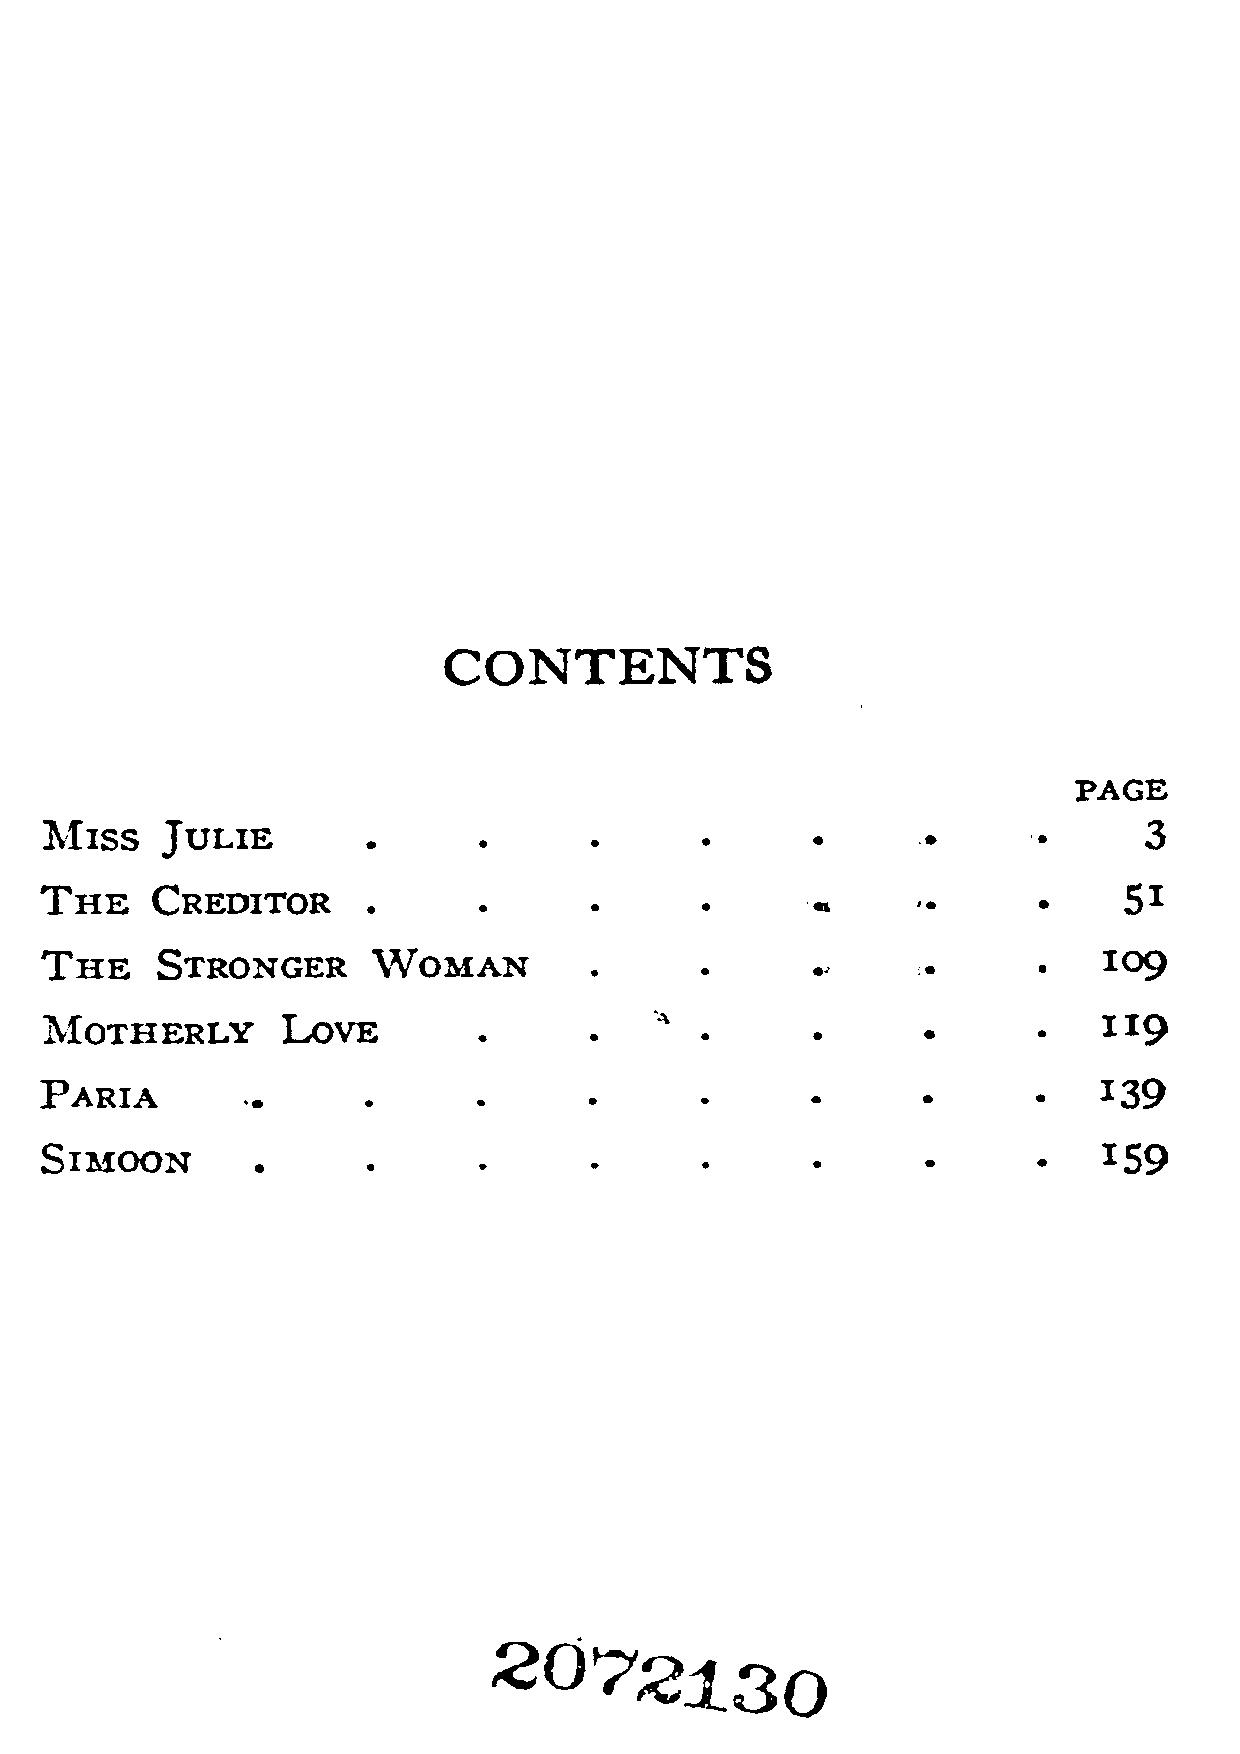TOC_chapter: (38, 945, 531, 981), (35, 807, 285, 864), (38, 1011, 386, 1047), (35, 882, 340, 921), (36, 1139, 193, 1180), (38, 1076, 158, 1114)
TOC_pagenumber: (1094, 1068, 1166, 1115), (1096, 1135, 1169, 1180), (1099, 945, 1172, 985), (1099, 1009, 1172, 1049), (1119, 878, 1166, 921), (1138, 816, 1170, 856)
chapter: (439, 639, 774, 687)
